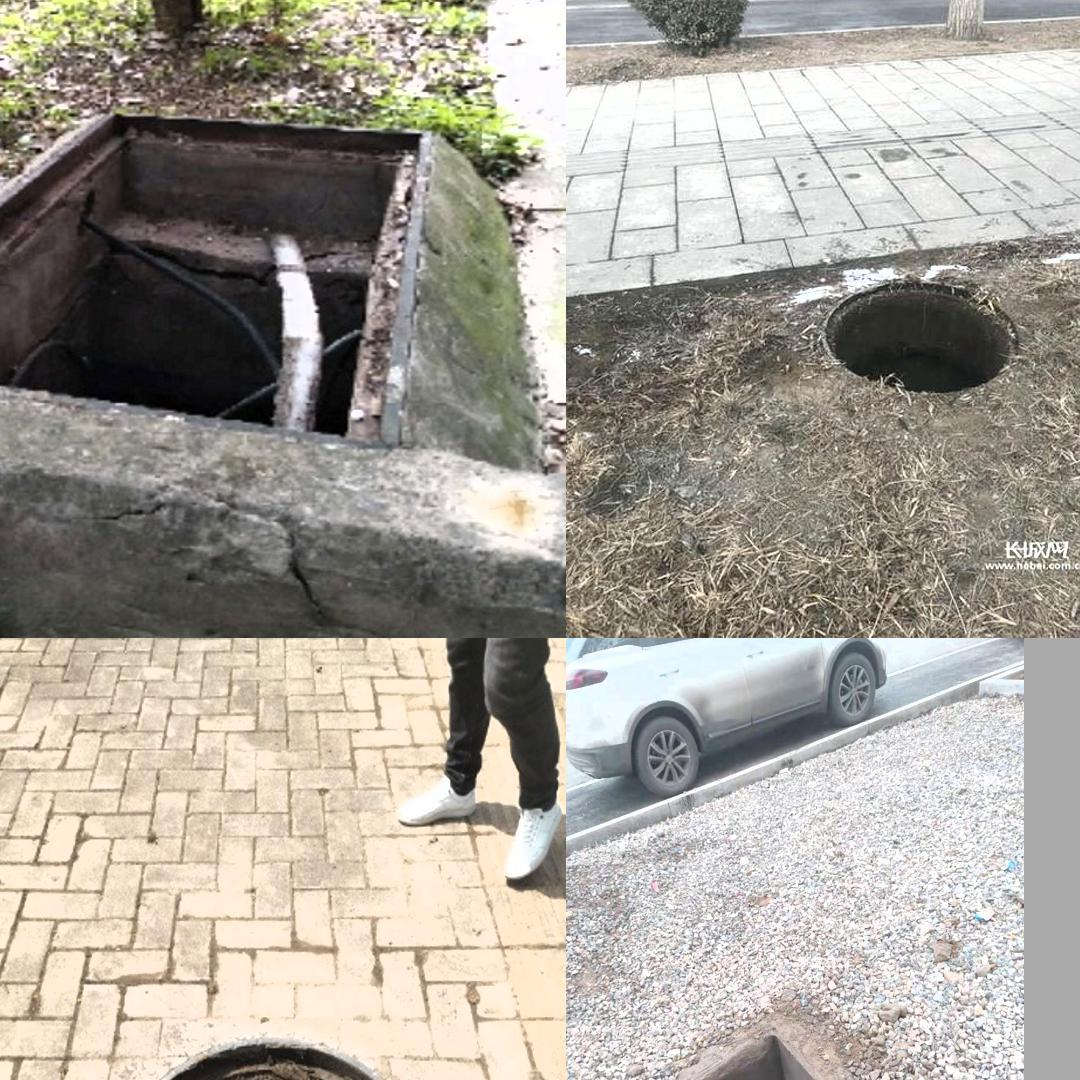lose: (0, 108, 437, 448), (787, 264, 1038, 412), (99, 1035, 447, 1080), (680, 1032, 902, 1080)
